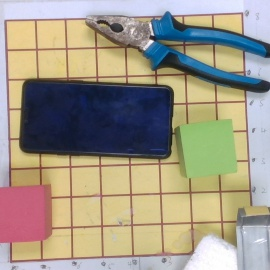phone: (18, 79, 175, 160)
